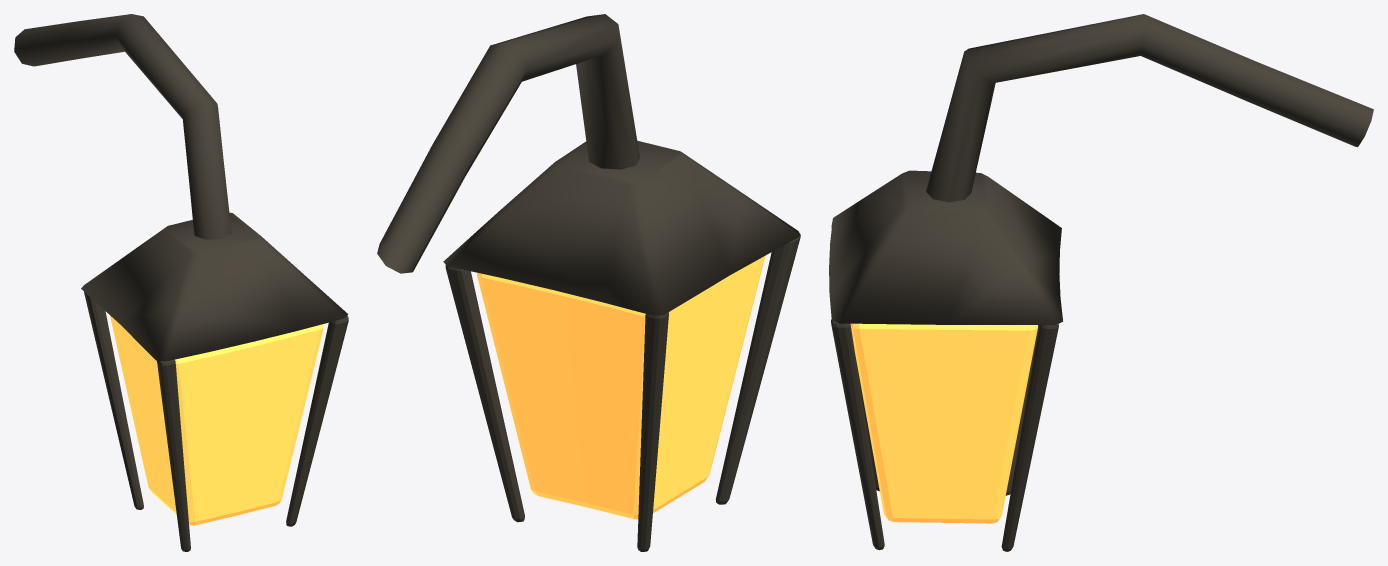
File: lamp.glb
3 renders of one model, left to right at view 1: azimuth 30°, elevation 25°; view 2: azimuth 150°, elevation 25°; view 3: azimuth 270°, elevation 25°, orthographic. The views are drawn at different scales.
Visible parts, largest first — view 1: Door 03 | Lantern Glass | 01, Door 03 | Lantern Cap | 01, Door 03 | Lantern Hook | 01, Door 03 | Lantern Frame | 03, Door 03 | Lantern Frame | 02, Door 03 | Lantern Frame | 01; view 2: Door 03 | Lantern Glass | 01, Door 03 | Lantern Cap | 01, Door 03 | Lantern Hook | 01, Door 03 | Lantern Frame | 01, Door 03 | Lantern Frame | 04, Door 03 | Lantern Frame | 02; view 3: Door 03 | Lantern Glass | 01, Door 03 | Lantern Cap | 01, Door 03 | Lantern Hook | 01, Door 03 | Lantern Frame | 04, Door 03 | Lantern Frame | 03.
Part boxes in pixels (<box>): Door 03 | Lantern Glass | 01: <box>110,315,323,525</box>; Door 03 | Lantern Cap | 01: <box>81,212,347,361</box>; Door 03 | Lantern Hook | 01: <box>14,14,231,239</box>; Door 03 | Lantern Frame | 03: <box>286,315,348,526</box>; Door 03 | Lantern Frame | 02: <box>84,292,143,509</box>; Door 03 | Lantern Frame | 01: <box>157,359,190,551</box>; Door 03 | Lantern Glass | 01: <box>477,255,765,519</box>; Door 03 | Lantern Cap | 01: <box>443,140,800,315</box>; Door 03 | Lantern Hook | 01: <box>377,14,639,273</box>; Door 03 | Lantern Frame | 01: <box>715,234,800,504</box>; Door 03 | Lantern Frame | 04: <box>445,265,524,522</box>; Door 03 | Lantern Frame | 02: <box>637,312,668,551</box>; Door 03 | Lantern Glass | 01: <box>850,323,1037,523</box>; Door 03 | Lantern Cap | 01: <box>829,170,1063,324</box>; Door 03 | Lantern Hook | 01: <box>926,14,1373,202</box>; Door 03 | Lantern Frame | 04: <box>1001,324,1058,551</box>; Door 03 | Lantern Frame | 03: <box>831,319,884,550</box>.
Size of the model in its own units: 0.2749 by 0.5944 by 0.5758.
